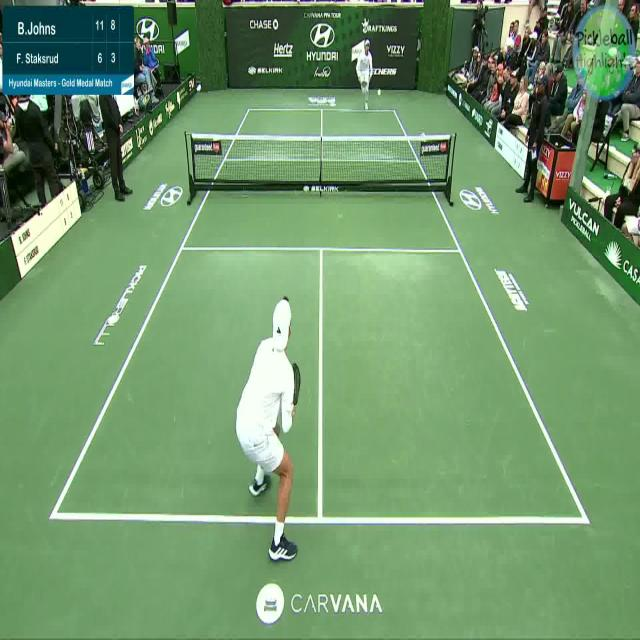ball: (376, 87, 384, 99)
